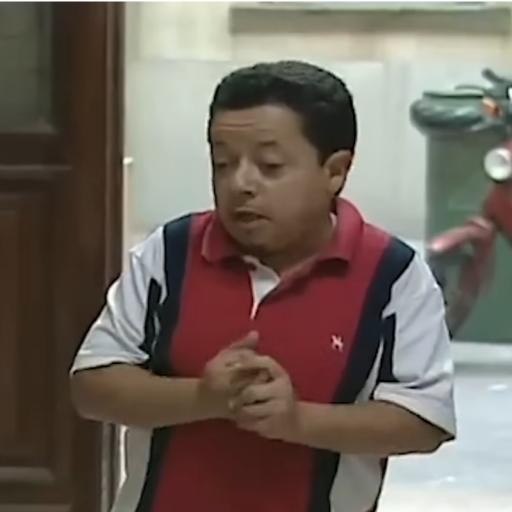fouchika: (208, 61, 357, 254)
